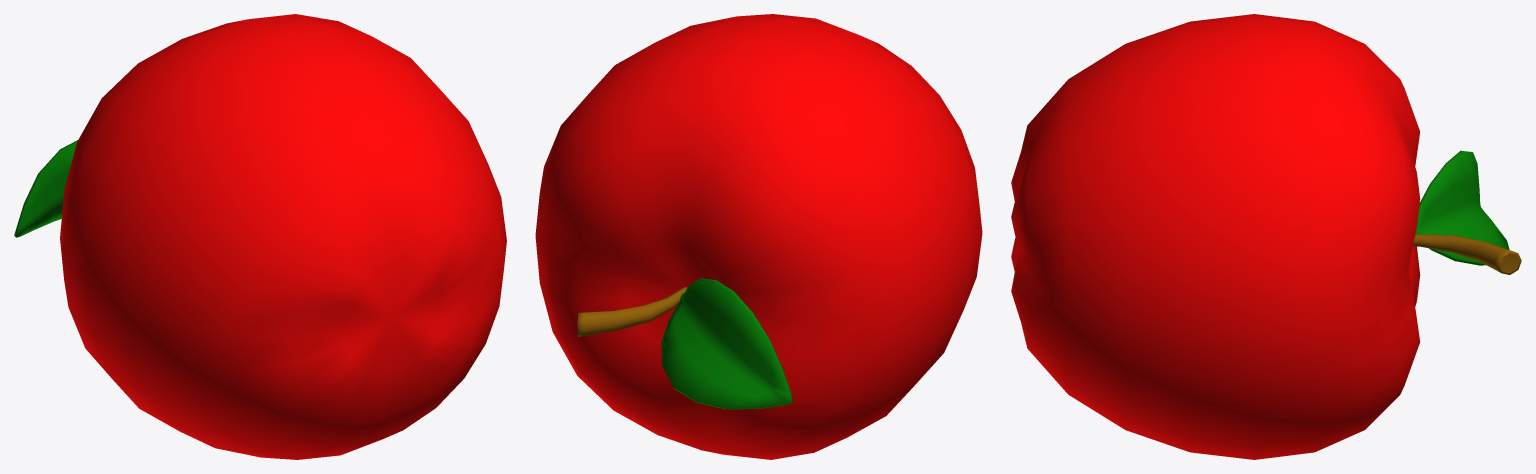
Rendered from apple.fbx.
3 views of the same model, side by side, from view 1: azimuth 30°, elevation 25°; view 2: azimuth 150°, elevation 25°; view 3: azimuth 270°, elevation 25° (orthographic).
Visible parts, largest first — view 1: Apple, Apple_2; view 2: Apple, Apple_2, Apple_3; view 3: Apple, Apple_2, Apple_3.
Part boxes in pixels (x1,y1,x2,y2): Apple: (60, 14, 506, 459); Apple_2: (14, 140, 77, 237); Apple: (535, 14, 982, 459); Apple_2: (661, 278, 793, 409); Apple_3: (577, 287, 687, 336); Apple: (1011, 14, 1420, 459); Apple_2: (1415, 150, 1509, 265); Apple_3: (1413, 234, 1521, 274).
Size of the model in its own units: 79.89 by 91.12 by 79.89.
